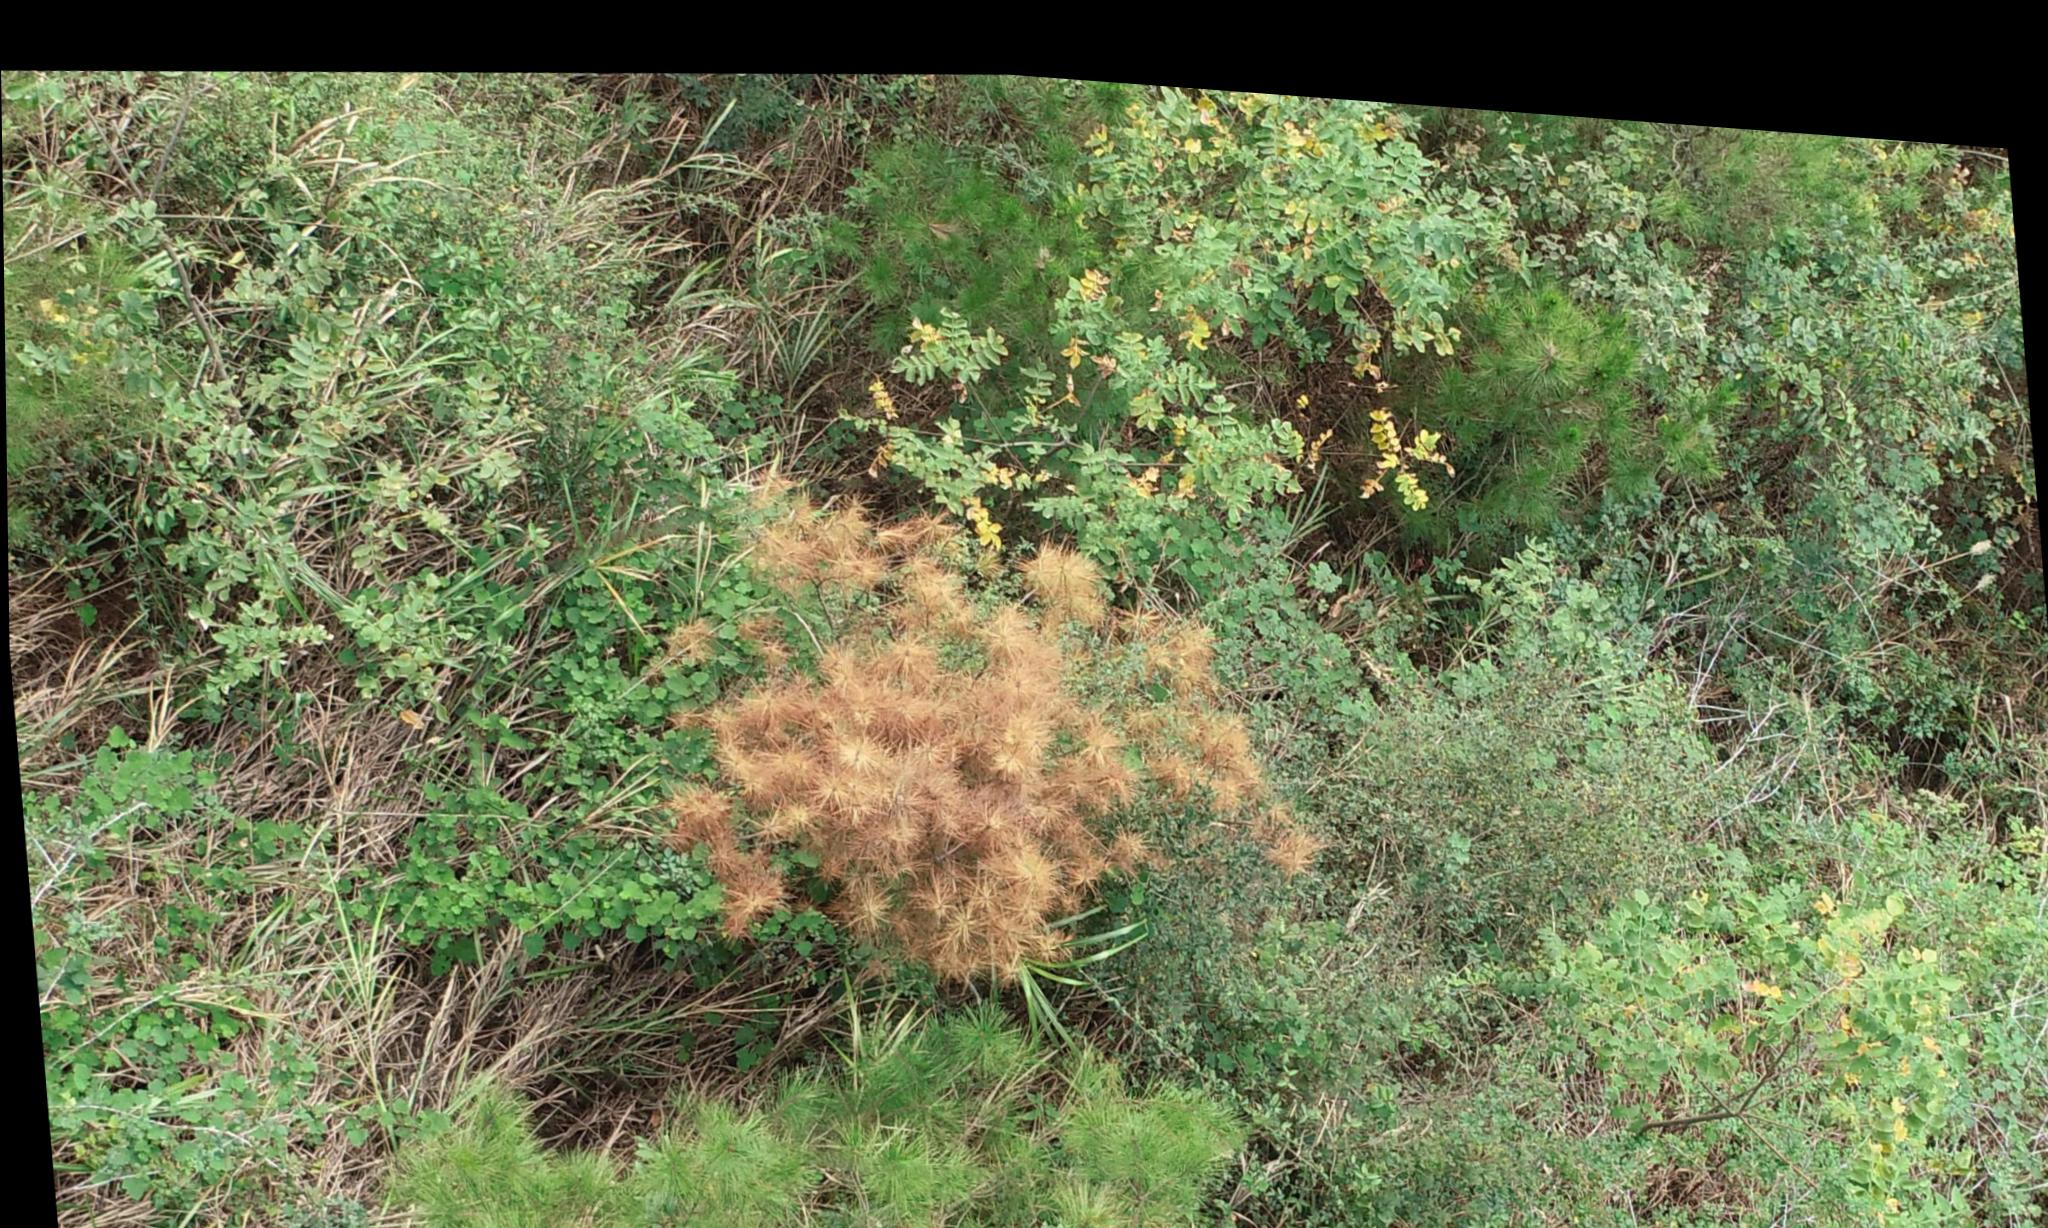heavy: (621, 456, 1301, 1006)
